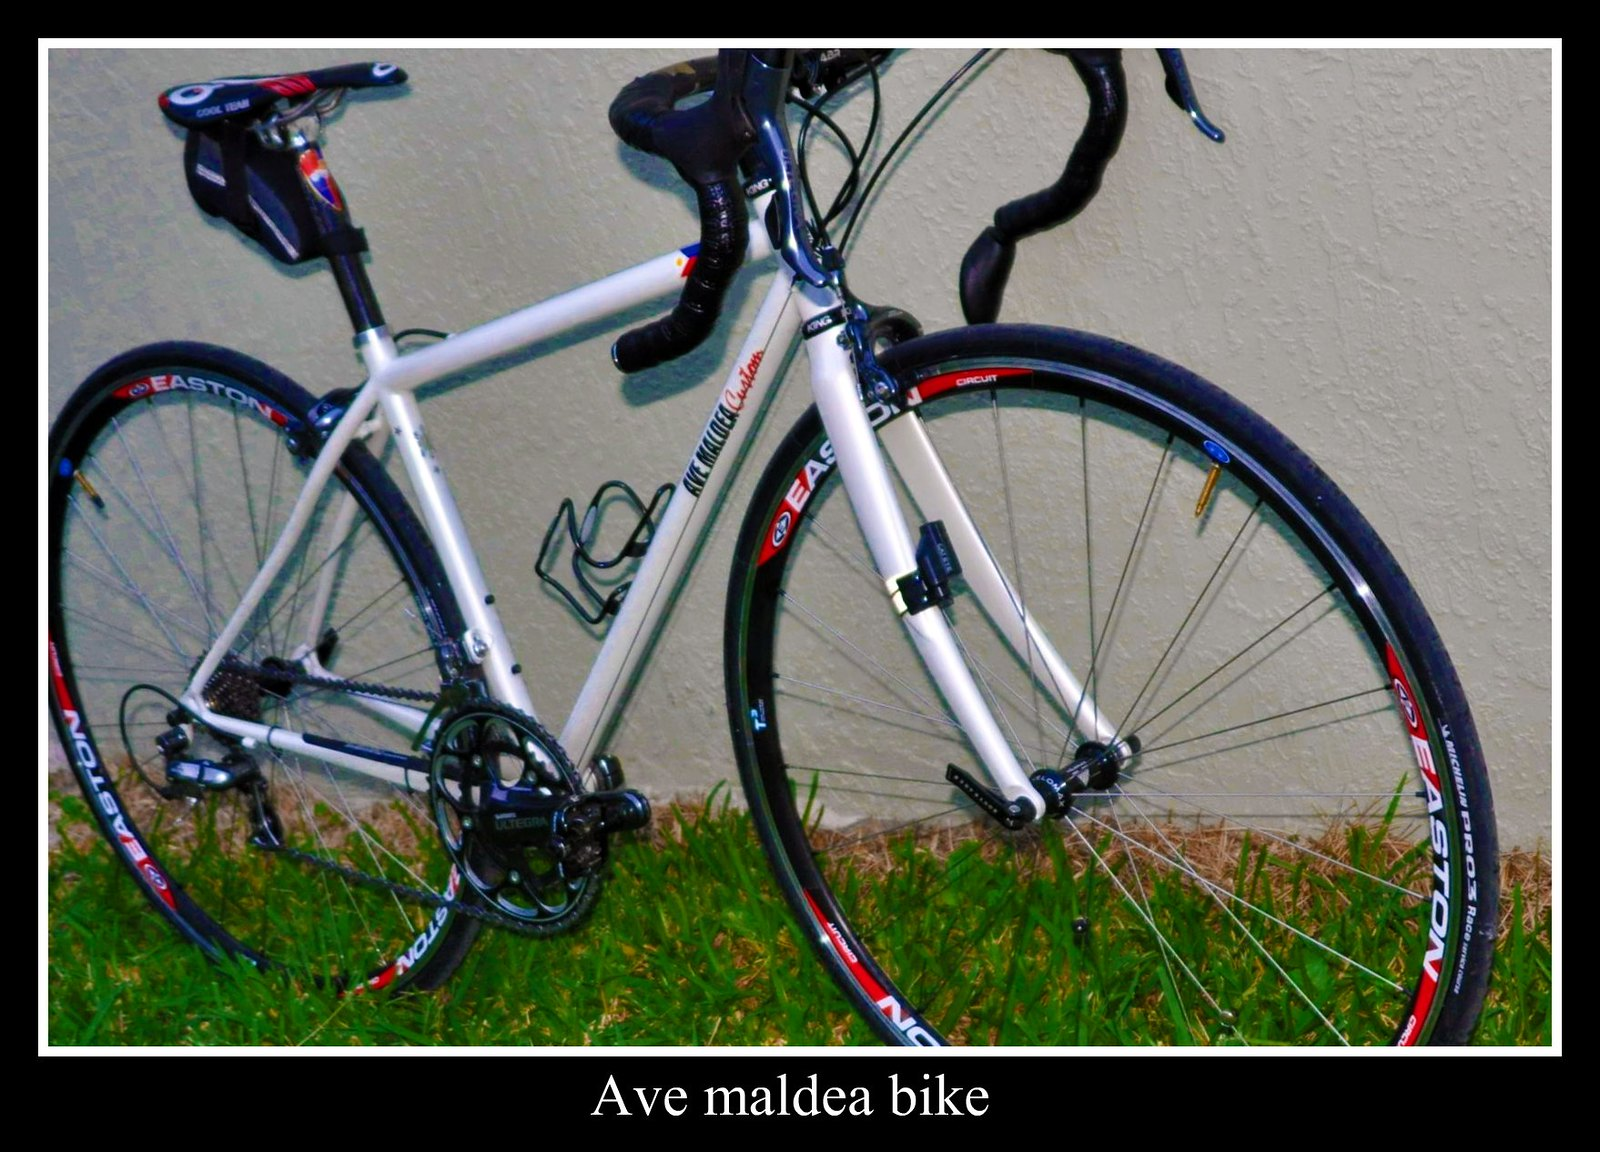bicycle: (56, 76, 1516, 1053)
